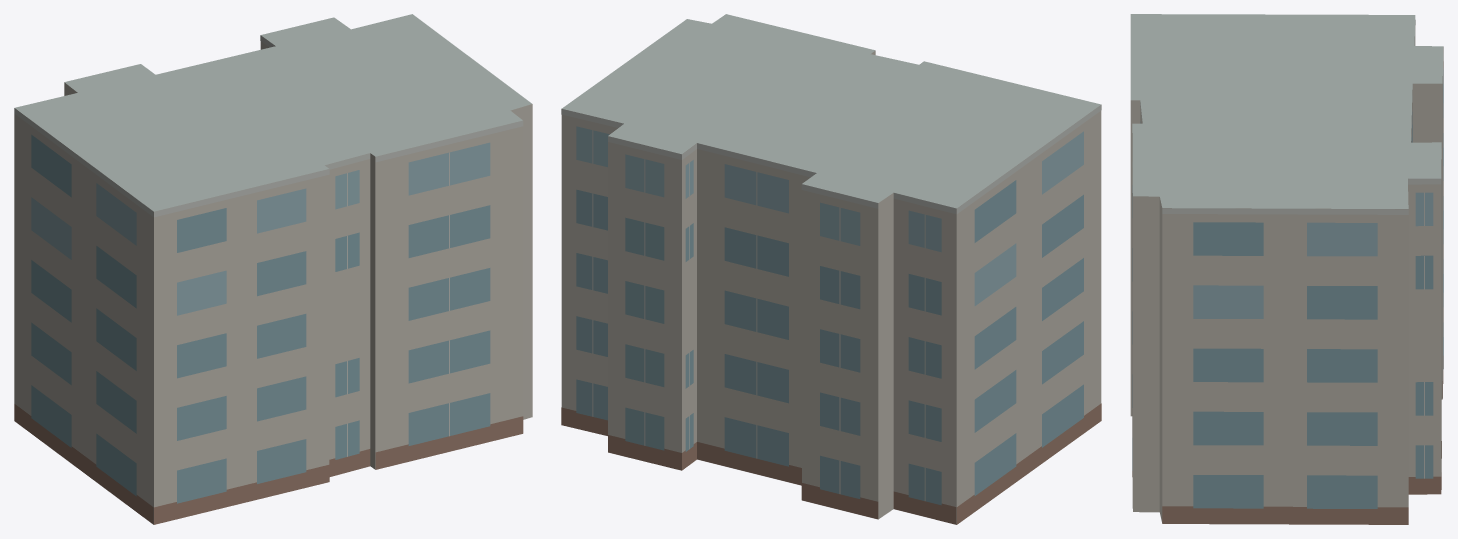
File: survey-upis-33027675.glb
The picture shows the model from 3 angles, left to right: view 1: azimuth 30°, elevation 25°; view 2: azimuth 150°, elevation 25°; view 3: azimuth 270°, elevation 25°; orthographic projection.
Parts seen in each view (by area): view 1: survey-upis-33027675.tmp; view 2: survey-upis-33027675.tmp; view 3: survey-upis-33027675.tmp.
Part boxes in pixels (<box>): survey-upis-33027675.tmp: <box>14,14,532,524</box>; survey-upis-33027675.tmp: <box>561,14,1101,524</box>; survey-upis-33027675.tmp: <box>1130,14,1443,524</box>.
Size of the model in its own units: 17.5 by 13.2 by 11.87.
